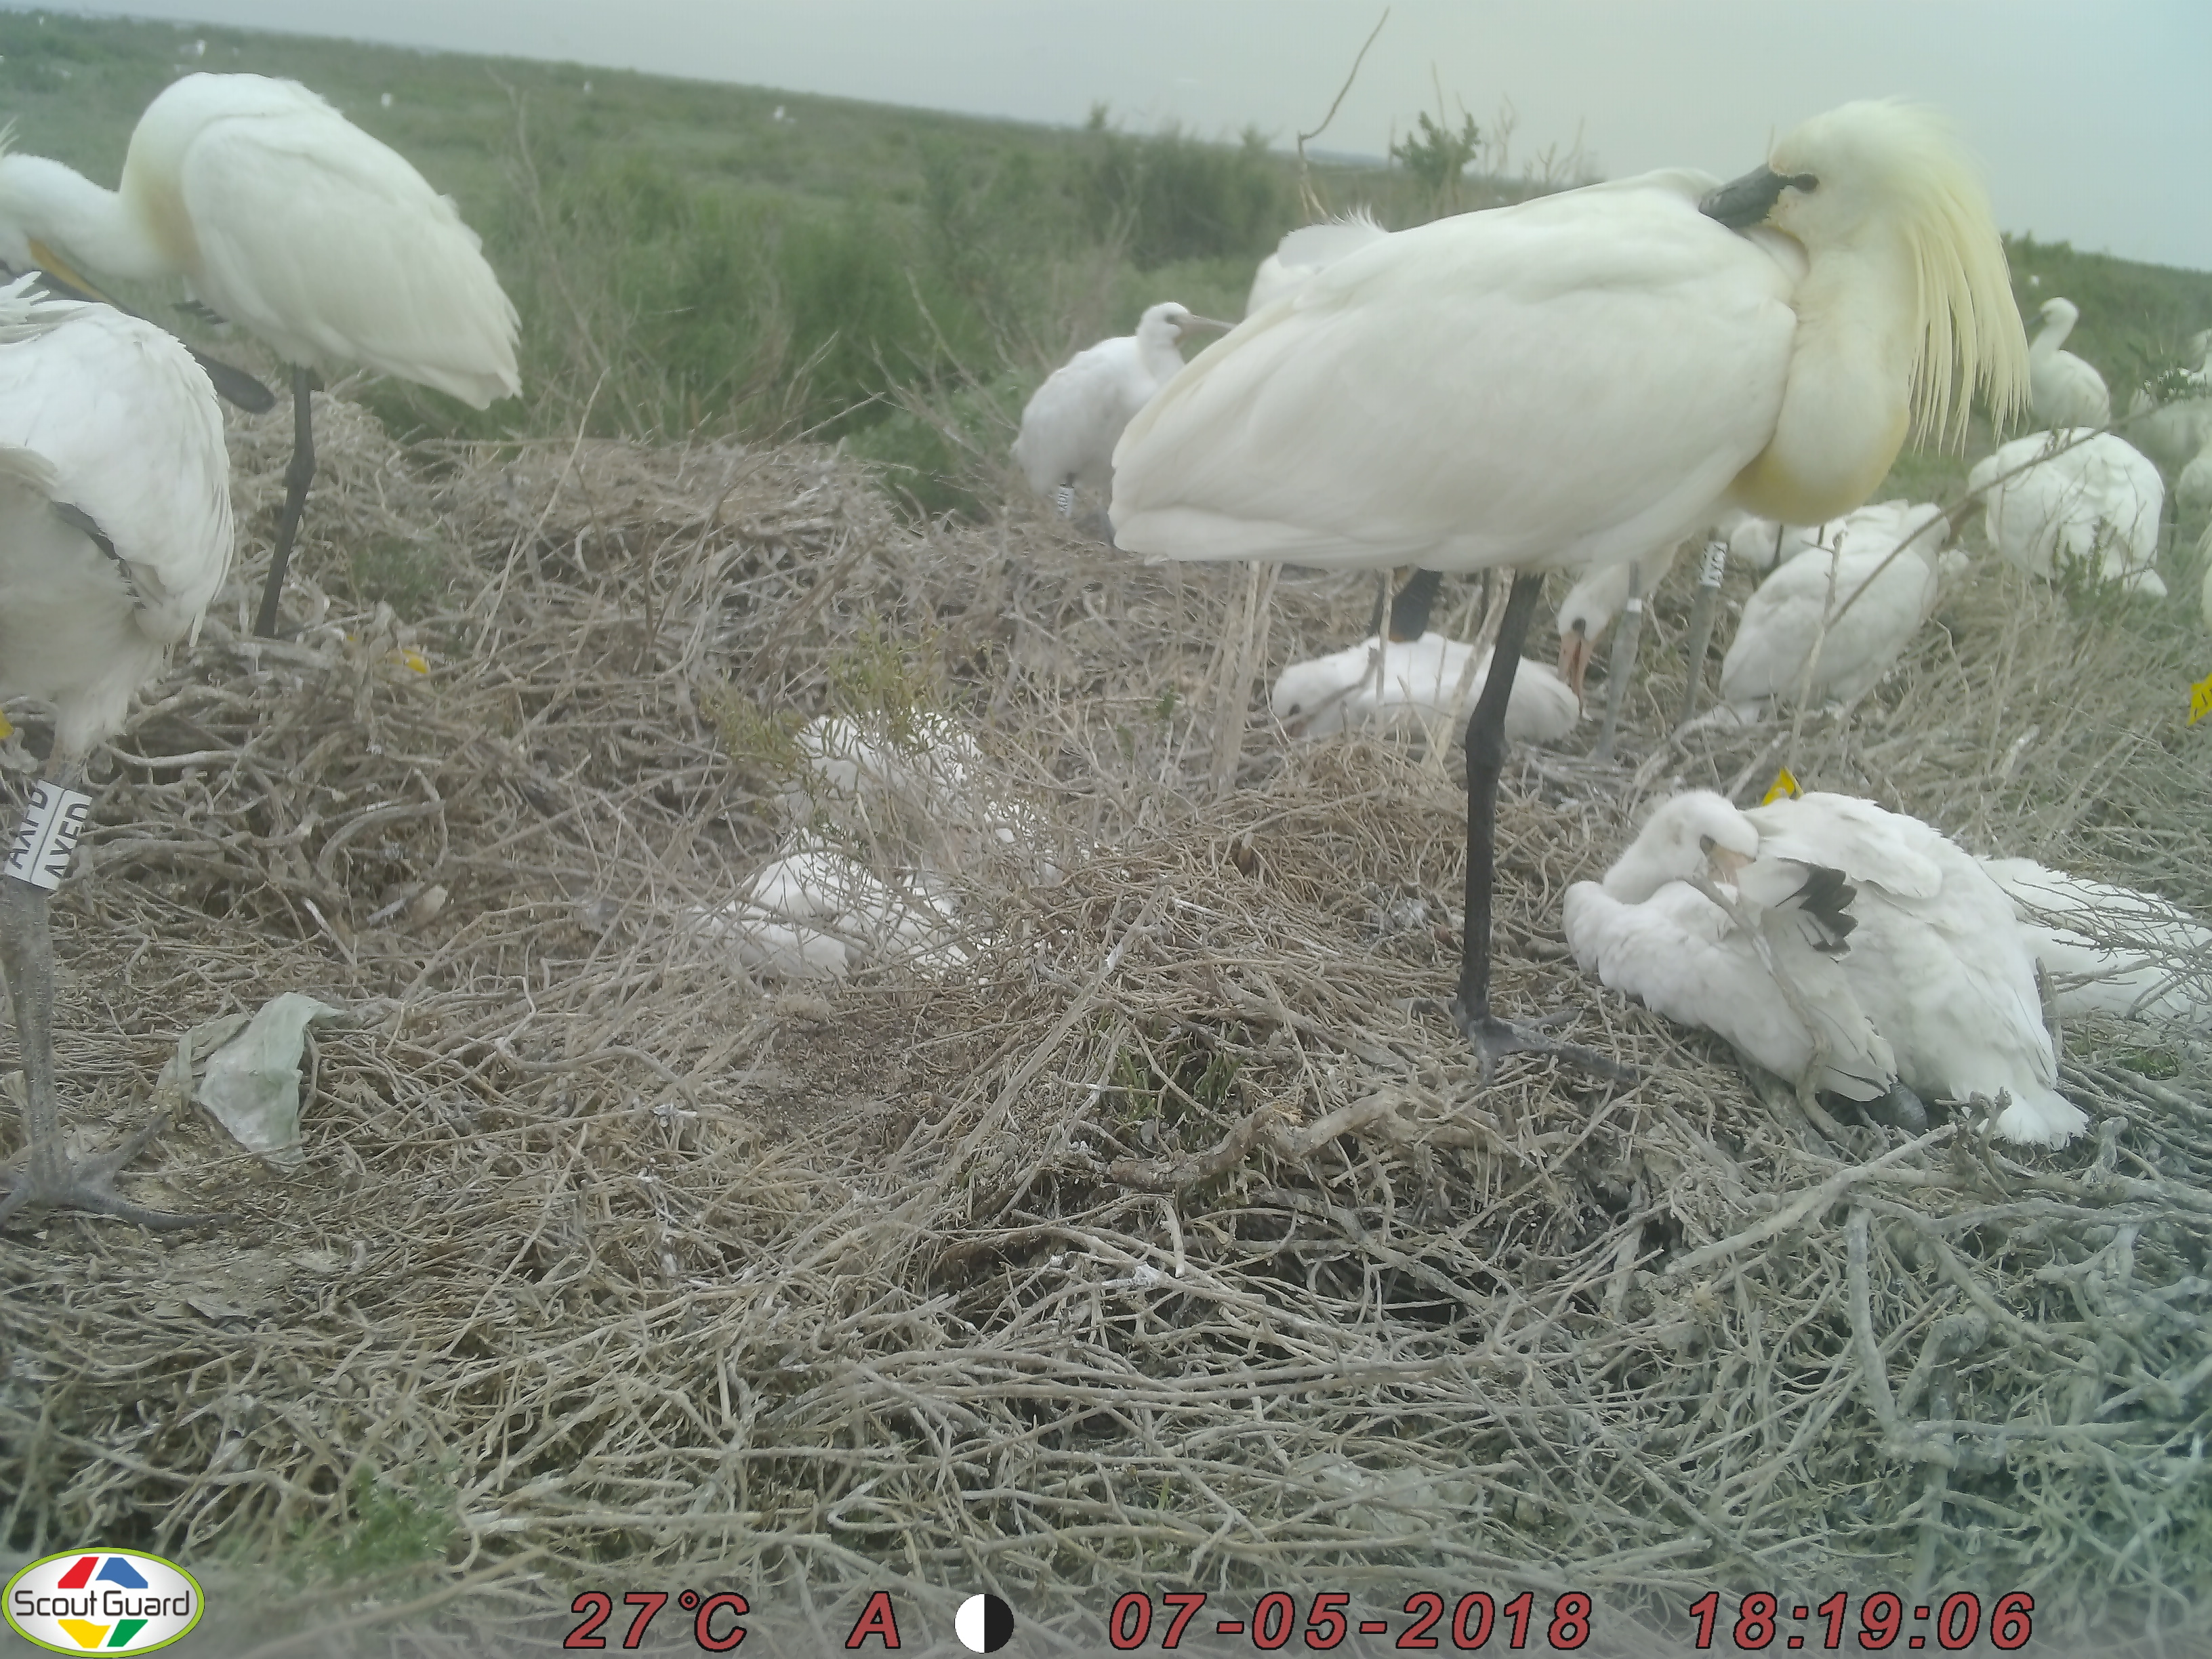tag: (3, 767, 98, 894), (1693, 533, 1728, 594)
